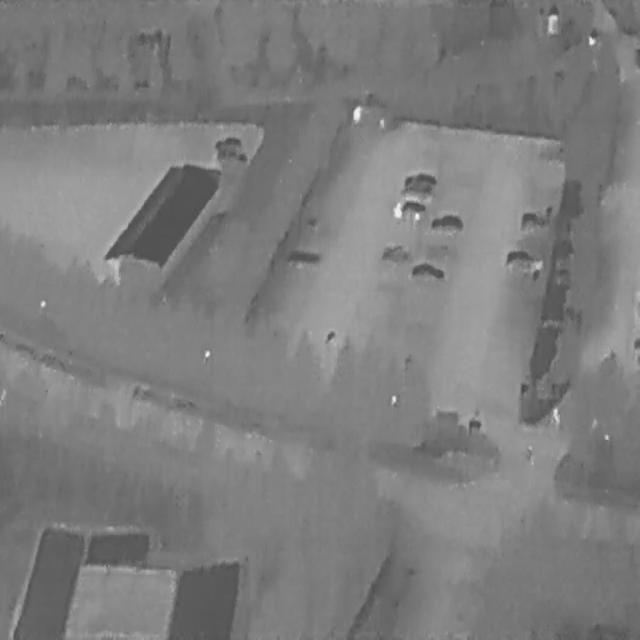Car: (504, 250, 537, 271), (430, 214, 463, 234), (394, 199, 424, 220), (410, 264, 444, 281), (519, 210, 546, 231), (402, 172, 436, 188), (400, 185, 434, 201), (216, 149, 247, 165), (212, 135, 241, 150)
